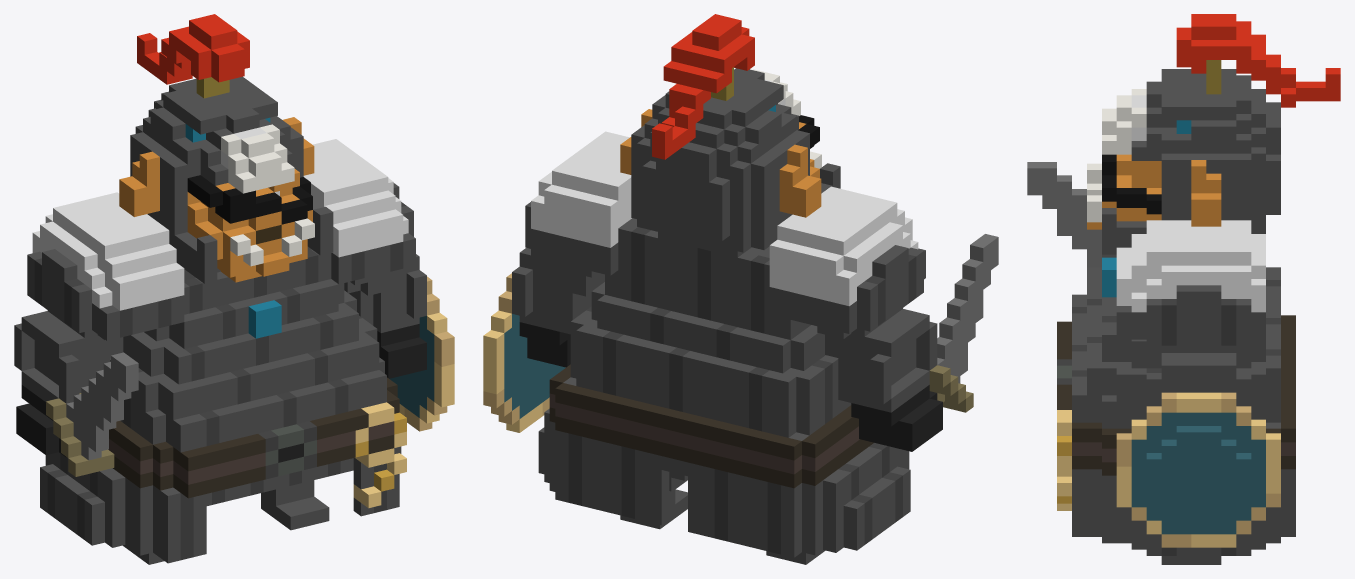
The model's file is Voxel_Pug.glb.
3 renders of one model, left to right at view 1: azimuth 30°, elevation 25°; view 2: azimuth 150°, elevation 25°; view 3: azimuth 270°, elevation 25°, orthographic. The views are drawn at different scales.
Parts seen in each view (by area): view 1: pug.002; view 2: pug.002; view 3: pug.002.
Boxes of the visible parts, x1,y1,x2,y2 form: pug.002: [14, 14, 454, 564]; pug.002: [483, 14, 998, 564]; pug.002: [1027, 14, 1340, 564].
Bounding box in the file's own units: 3.1 × 3.7 × 2.1.
Materials: 1 (1 with a texture image).
